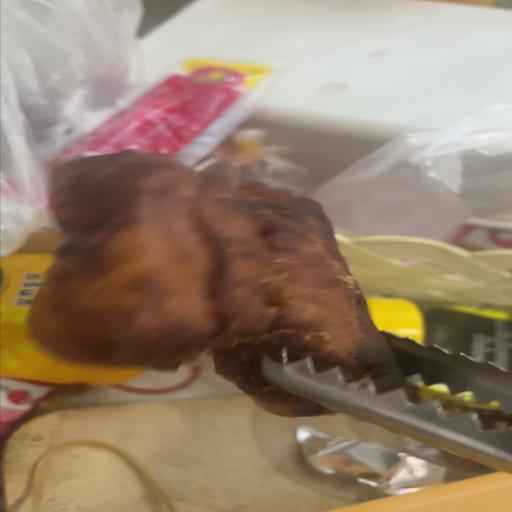street_burnt_defect: (28, 151, 402, 415)
